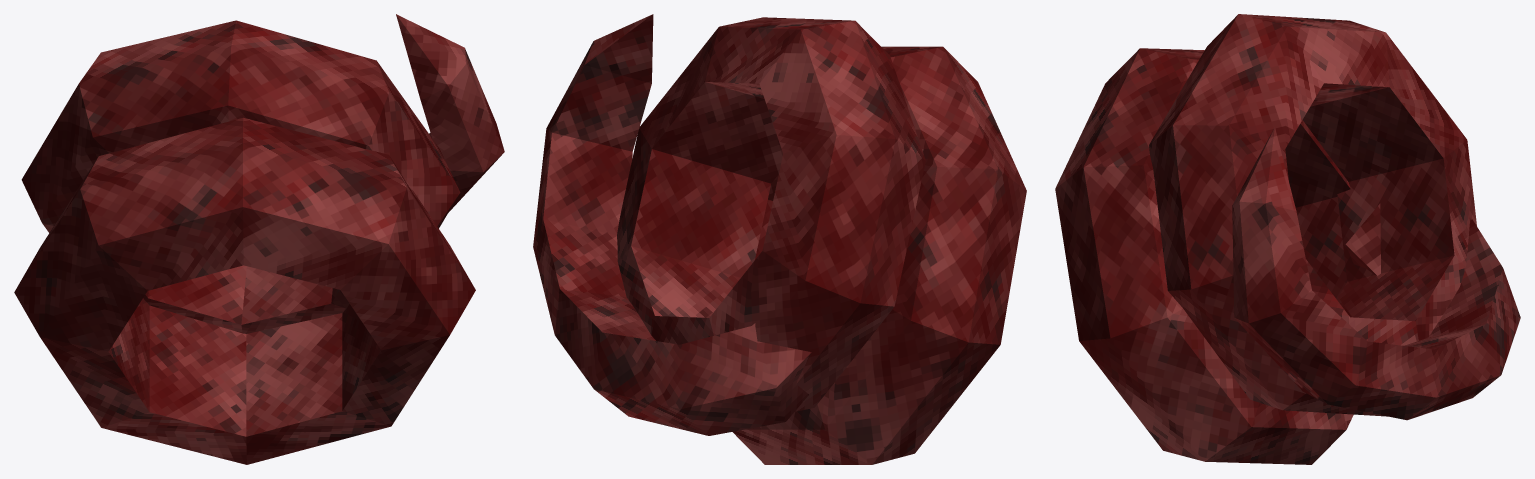
The model's file is upperArm_tendril.fbx.
3 views of the same model, side by side, from view 1: azimuth 30°, elevation 25°; view 2: azimuth 150°, elevation 25°; view 3: azimuth 270°, elevation 25° (orthographic).
Parts seen in each view (by area): view 1: pTorus4; view 2: pTorus4; view 3: pTorus4.
Boxes of the visible parts, bbox=[...] form: pTorus4: bbox=[14, 14, 504, 464]; pTorus4: bbox=[533, 14, 1026, 464]; pTorus4: bbox=[1055, 14, 1520, 464].
Size of the model in its own units: 1.22 by 1.11 by 1.09.
